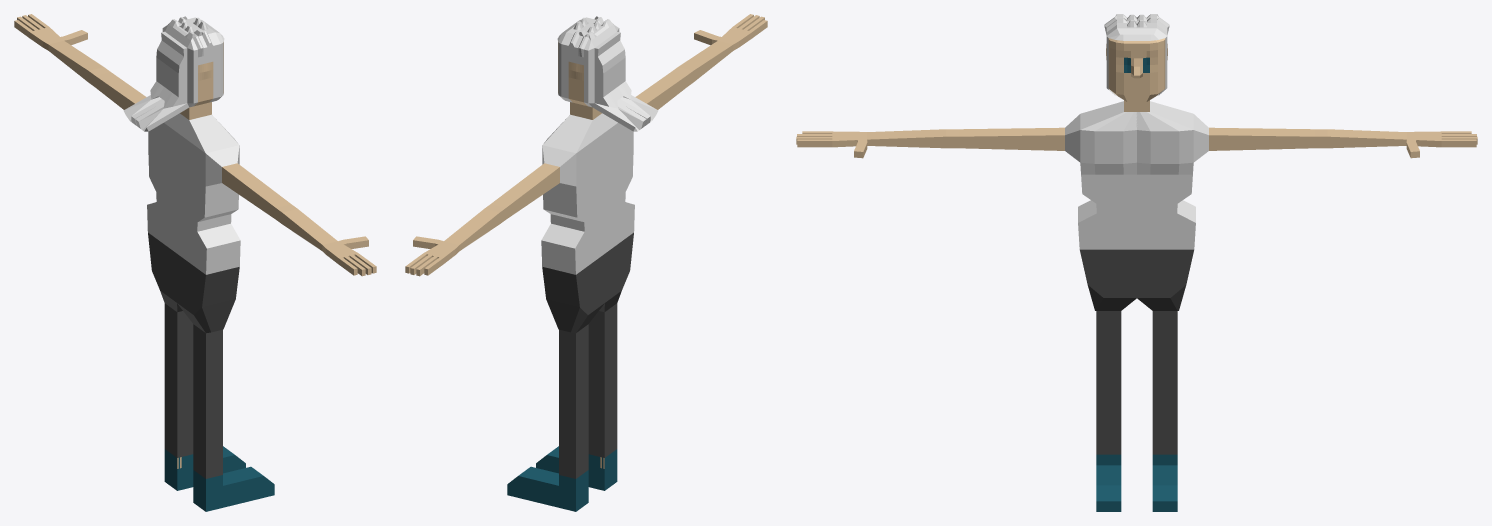
The model's file is GirlModelOne.fbx.
The picture shows the model from 3 angles, left to right: view 1: azimuth 30°, elevation 25°; view 2: azimuth 150°, elevation 25°; view 3: azimuth 270°, elevation 25°; orthographic projection.
Parts seen in each view (by area): view 1: Plane, Plane.001; view 2: Plane, Plane.001; view 3: Plane, Plane.001.
Part boxes in pixels (left/top/right/bottom): Plane: left=14, top=14, right=376, bottom=511; Plane.001: left=123, top=16, right=224, bottom=131; Plane: left=405, top=14, right=767, bottom=511; Plane.001: left=557, top=16, right=658, bottom=131; Plane: left=796, top=38, right=1477, bottom=511; Plane.001: left=1104, top=14, right=1169, bottom=95.
Bounding box in the file's own units: 252 × 958 × 1269.
